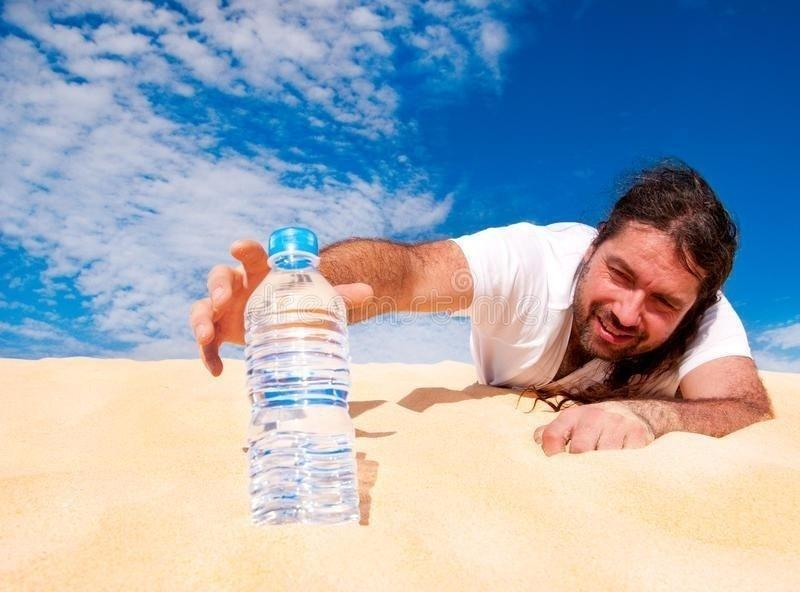bottle-plastic: (240, 224, 363, 531)
